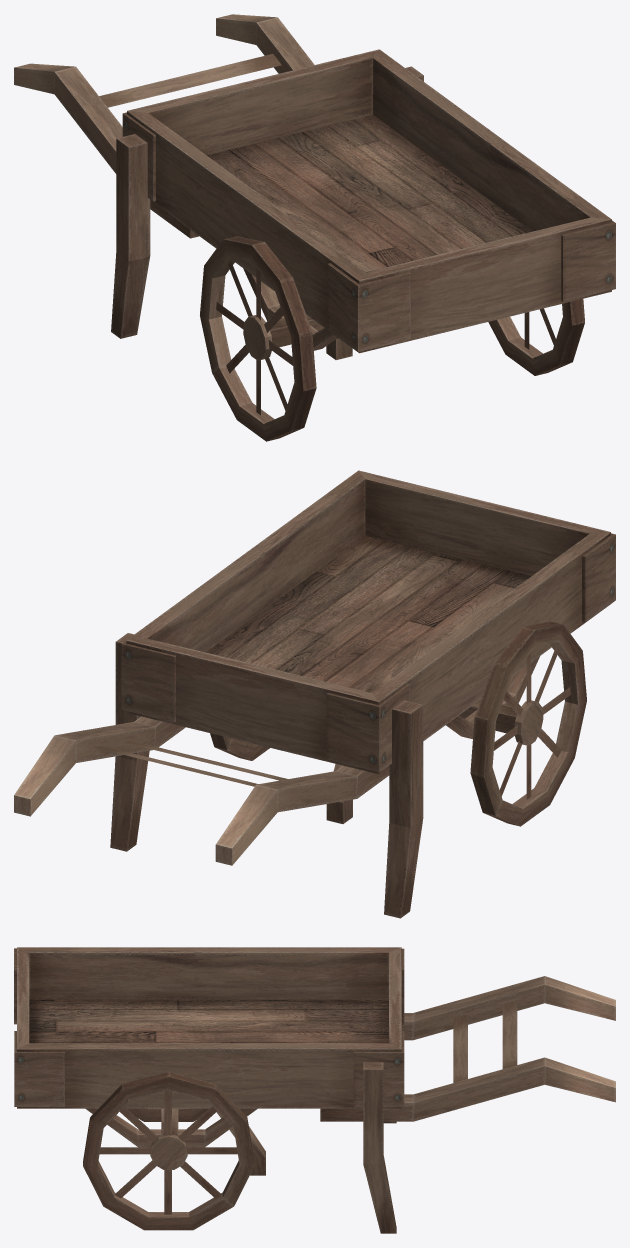
The model's file is Handcart.fbx.
3 renders of one model, top to bottom at view 1: azimuth 30°, elevation 25°; view 2: azimuth 150°, elevation 25°; view 3: azimuth 270°, elevation 25°, orthographic. The views are drawn at different scales.
Parts seen in each view (by area): view 1: Handcart; view 2: Handcart; view 3: Handcart.
Boxes of the visible parts, x1,y1,x2,y2 form: Handcart: (14, 14, 615, 441); Handcart: (14, 470, 615, 918); Handcart: (14, 947, 615, 1233).
Bounding box in the file's own units: 88.33 × 61.19 × 189.
